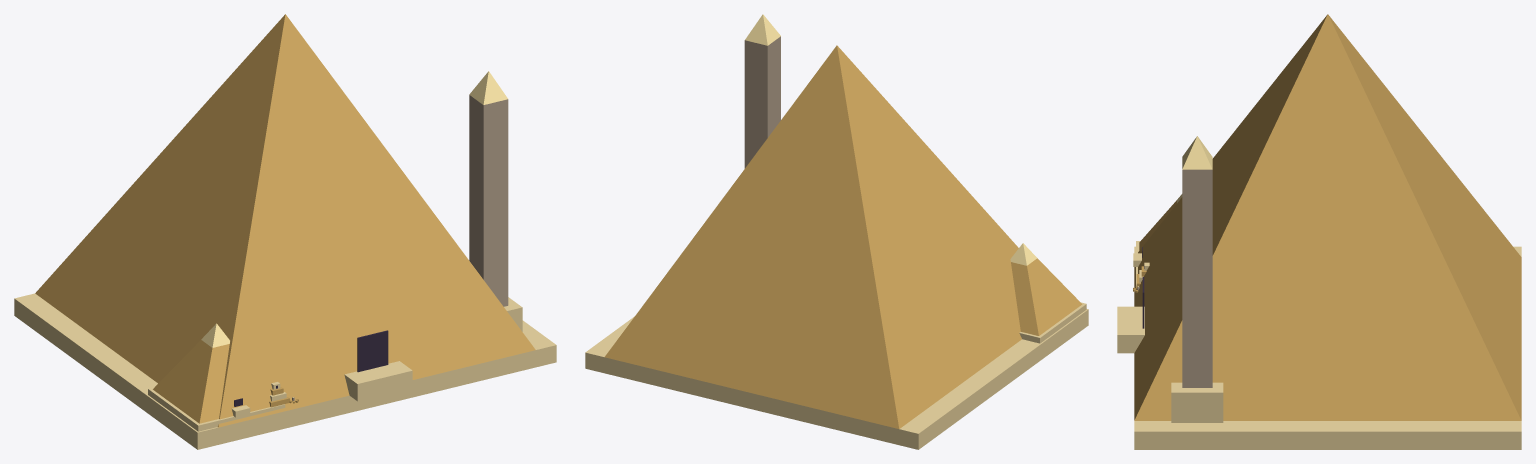
The model's file is sand-g3.glb.
The picture shows the model from 3 angles, left to right: view 1: azimuth 30°, elevation 25°; view 2: azimuth 150°, elevation 25°; view 3: azimuth 270°, elevation 25°; orthographic projection. The views are drawn at different scales.
Visible parts, largest first — view 1: sand-g3; view 2: sand-g3; view 3: sand-g3.
Part boxes in pixels (<box>): sand-g3: <box>14,14,556,449</box>; sand-g3: <box>585,14,1088,449</box>; sand-g3: <box>1117,14,1521,449</box>.
Size of the model in its own units: 5.2 by 4.5 by 4.8.
